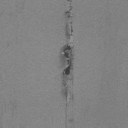slag inclusion: (59, 44, 75, 102), (62, 0, 73, 40)
